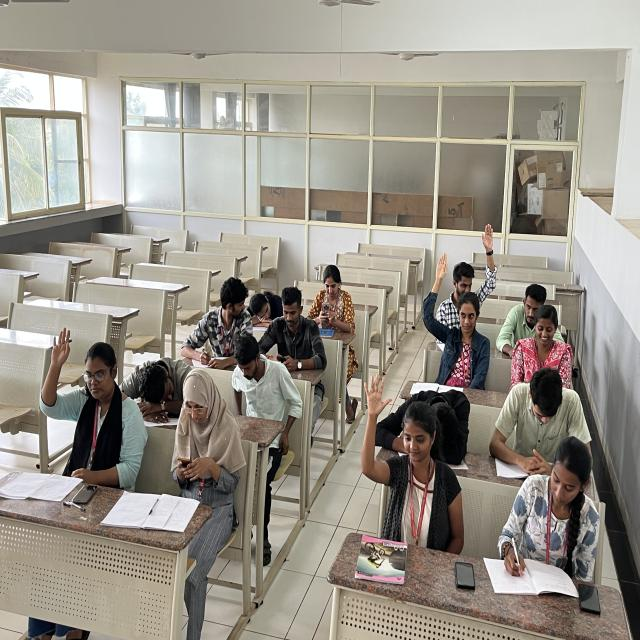Hand Rising: (358, 373, 460, 527), (35, 325, 141, 465), (418, 252, 492, 377), (442, 224, 505, 320)
Sleeping: (409, 380, 476, 461), (119, 346, 190, 419), (241, 286, 288, 332)
Using Phone: (172, 366, 248, 488), (261, 286, 323, 369), (305, 262, 359, 332)
Writing: (494, 440, 624, 596), (182, 279, 259, 374)
